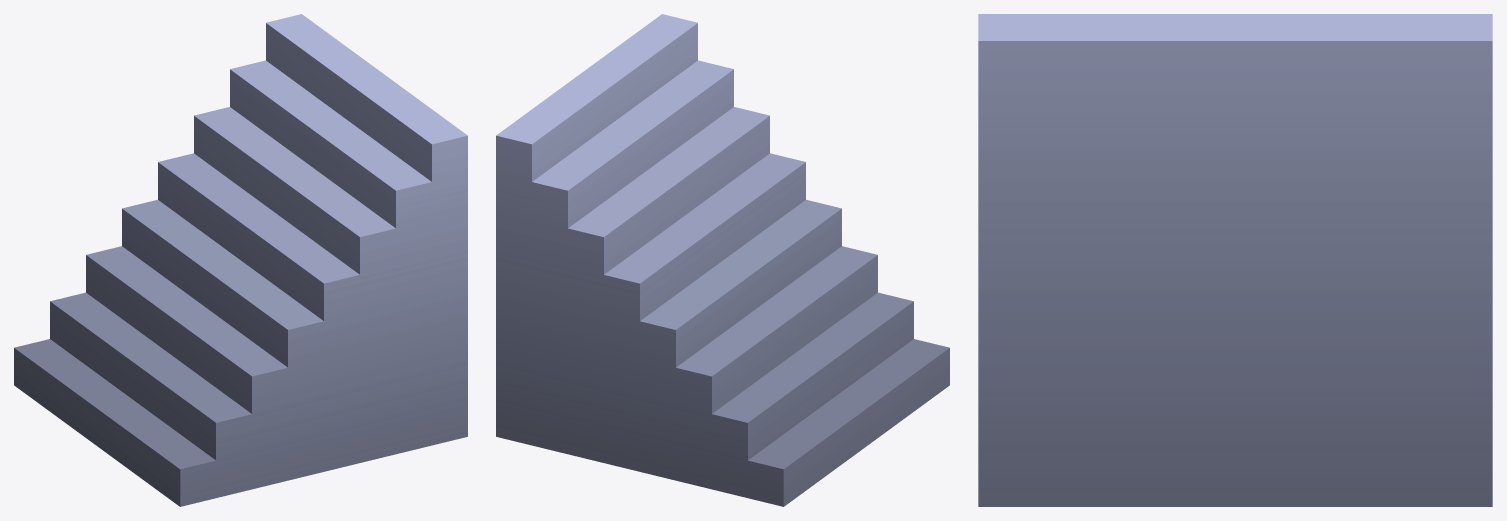
File: stairs-small.fbx
3 renders of one model, left to right at view 1: azimuth 30°, elevation 25°; view 2: azimuth 150°, elevation 25°; view 3: azimuth 270°, elevation 25°, orthographic. The views are drawn at different scales.
Parts seen in each view (by area): view 1: stairs-small; view 2: stairs-small; view 3: stairs-small.
Part boxes in pixels (x1,y1,x2,y2): stairs-small: [14, 14, 467, 506]; stairs-small: [496, 14, 949, 506]; stairs-small: [978, 14, 1492, 506].
Bounding box in the file's own units: 100 × 100 × 100.
